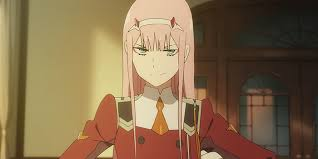zeroTwo: (116, 1, 200, 89)
